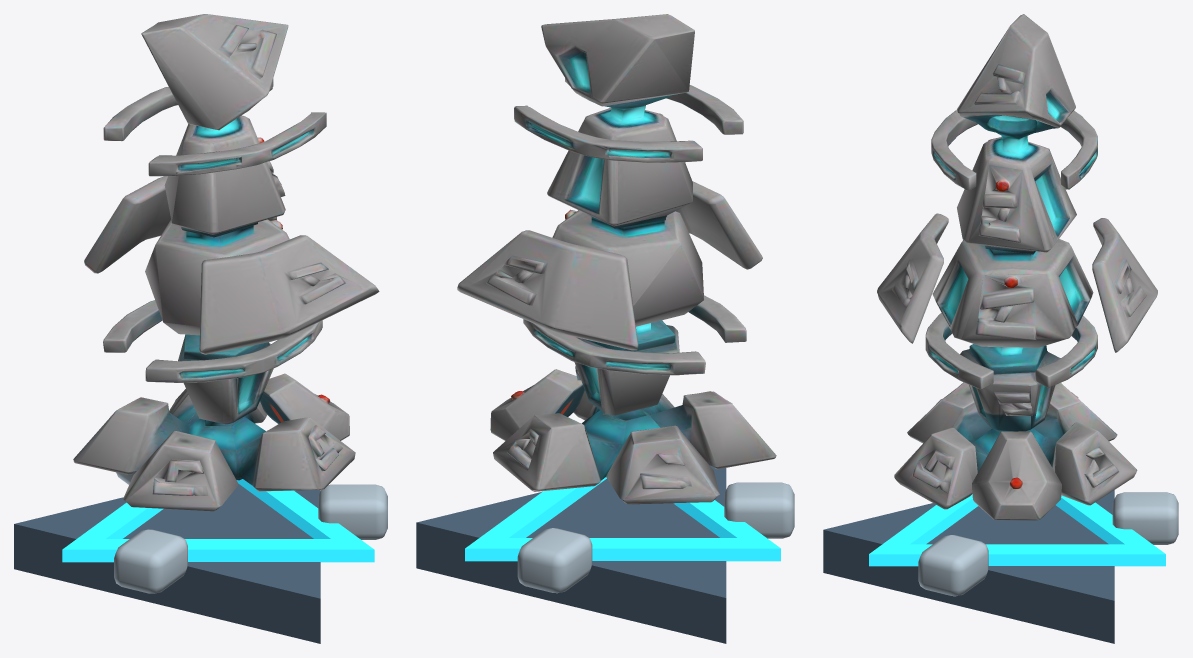
The model's file is struct_mecha_pylon.glb.
The picture shows the model from 3 angles, left to right: view 1: azimuth 30°, elevation 25°; view 2: azimuth 150°, elevation 25°; view 3: azimuth 270°, elevation 25°; orthographic projection. The views are drawn at different scales.
Visible parts, largest first — view 1: tripo_node_e0fadd73-4ad7-41b5-88eb-b2aefecfa766, Structure silhouette details; view 2: tripo_node_e0fadd73-4ad7-41b5-88eb-b2aefecfa766, Structure silhouette details; view 3: tripo_node_e0fadd73-4ad7-41b5-88eb-b2aefecfa766, Structure silhouette details.
Part boxes in pixels (x1=…): tripo_node_e0fadd73-4ad7-41b5-88eb-b2aefecfa766: x1=73, y1=14, x2=379, y2=511; Structure silhouette details: x1=14, y1=471, x2=387, y2=643; tripo_node_e0fadd73-4ad7-41b5-88eb-b2aefecfa766: x1=457, y1=14, x2=776, y2=504; Structure silhouette details: x1=416, y1=465, x2=794, y2=643; tripo_node_e0fadd73-4ad7-41b5-88eb-b2aefecfa766: x1=877, y1=14, x2=1157, y2=520; Structure silhouette details: x1=823, y1=490, x2=1178, y2=643.
Bounding box in the file's own units: 0.822 × 1.41 × 0.86.
4 materials, 1 textured.
